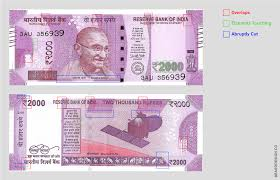twoThousand: (20, 22, 197, 78)
